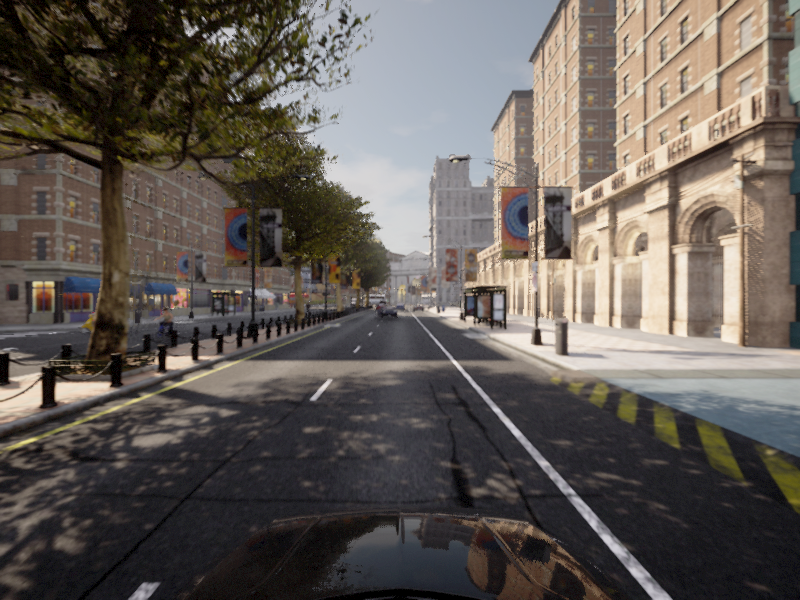vehicle: (146, 307, 182, 342), (77, 306, 119, 334), (376, 305, 398, 318)
